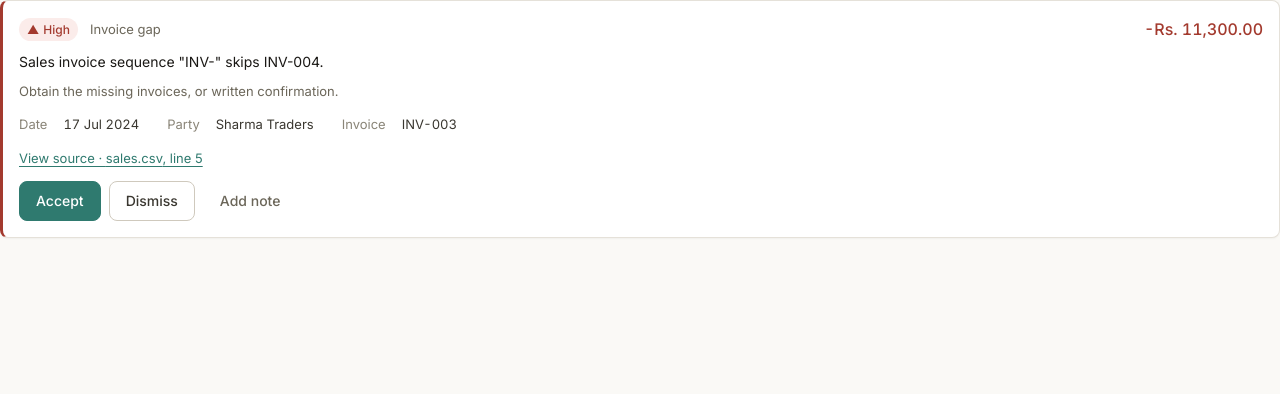
Scenario: FlagCard › REFUSES to dismiss a high-severity finding without a written reason
The image size is (1280, 394).
Click the button "Dismiss" at {"x": 152, "y": 201}, box [109,181,195,221]
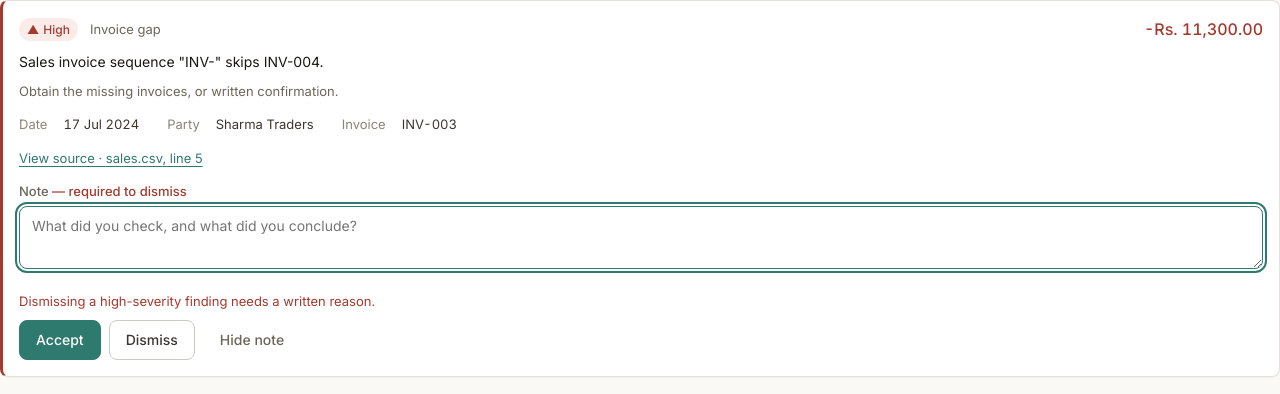
Expected: the message shows "needs a written reason", [19,293,375,309]
Expected: the text box is shown, [19,206,1263,269]
